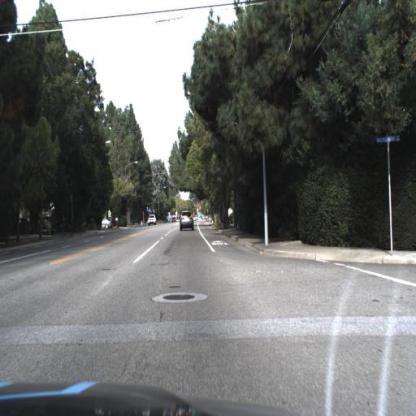car: (181, 208, 199, 234), (148, 215, 158, 229)
